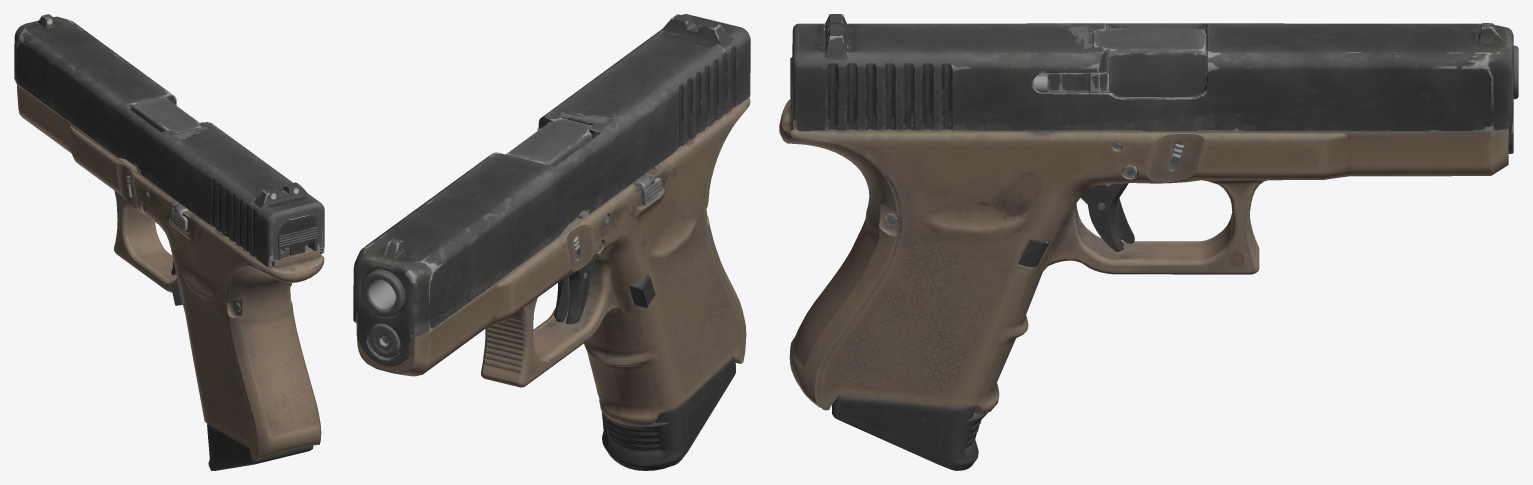
File: glock-18.glb
The picture shows the model from 3 angles, left to right: view 1: azimuth 30°, elevation 25°; view 2: azimuth 150°, elevation 25°; view 3: azimuth 270°, elevation 25°; orthographic projection. The views are drawn at different scales.
Visible parts, largest first — view 1: rest_steel, slide_steel, magazine_steel; view 2: rest_steel, slide_steel, magazine_steel; view 3: rest_steel, slide_steel, magazine_steel.
Part boxes in pixels (x1,y1,x2,y2): rest_steel: [17, 84, 324, 460]; slide_steel: [14, 14, 324, 266]; magazine_steel: [207, 310, 313, 470]; rest_steel: [356, 97, 750, 425]; slide_steel: [353, 14, 750, 366]; magazine_steel: [601, 356, 735, 470]; rest_steel: [779, 28, 1518, 413]; slide_steel: [790, 14, 1513, 153]; magazine_steel: [832, 395, 987, 470].
Bounding box in the file's own units: 0.0413 × 0.1767 × 0.2722.
1 material, 1 textured.
